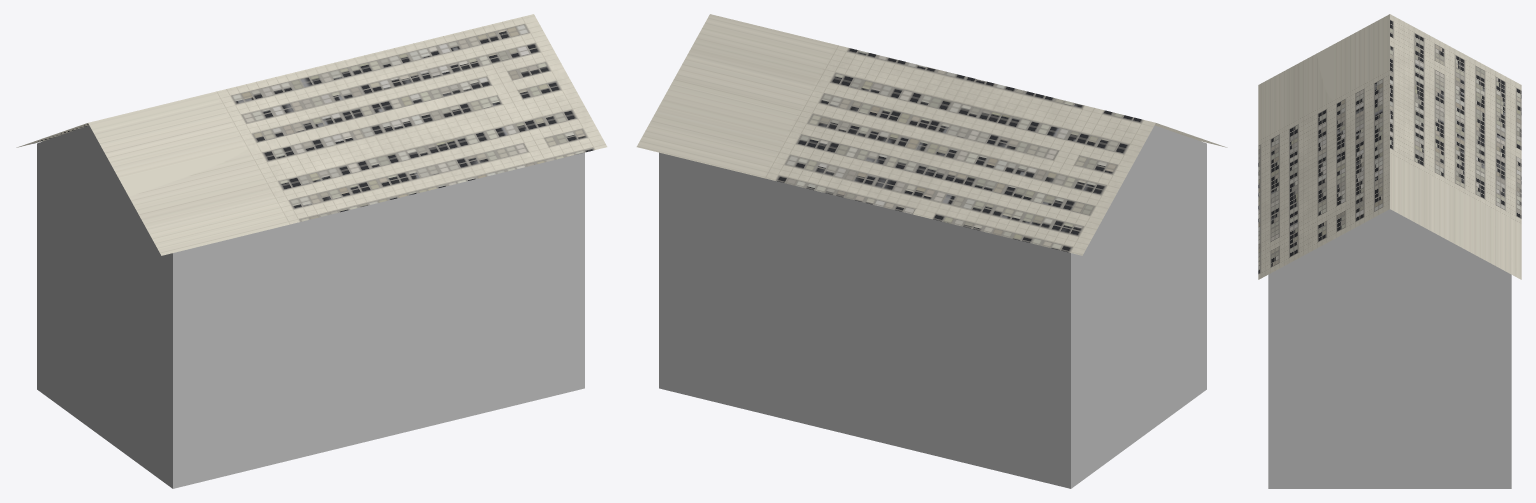
File: Small_House1.fbx
3 renders of one model, left to right at view 1: azimuth 30°, elevation 25°; view 2: azimuth 150°, elevation 25°; view 3: azimuth 270°, elevation 25°, orthographic. The views are drawn at different scales.
Visible parts, largest first — view 1: Cube.003; view 2: Cube.003; view 3: Cube.003.
Boxes of the visible parts, bbox=[...] form: Cube.003: bbox=[16, 14, 607, 488]; Cube.003: bbox=[636, 14, 1227, 488]; Cube.003: bbox=[1258, 14, 1521, 488].
Size of the model in its own units: 379 by 261 by 217.
